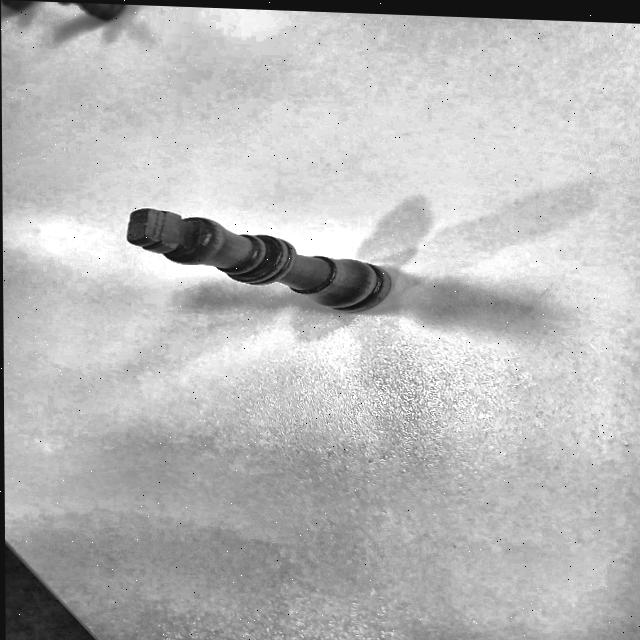black-king: (118, 197, 417, 323)
